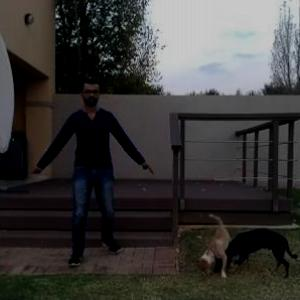land: (14, 81, 152, 271)
